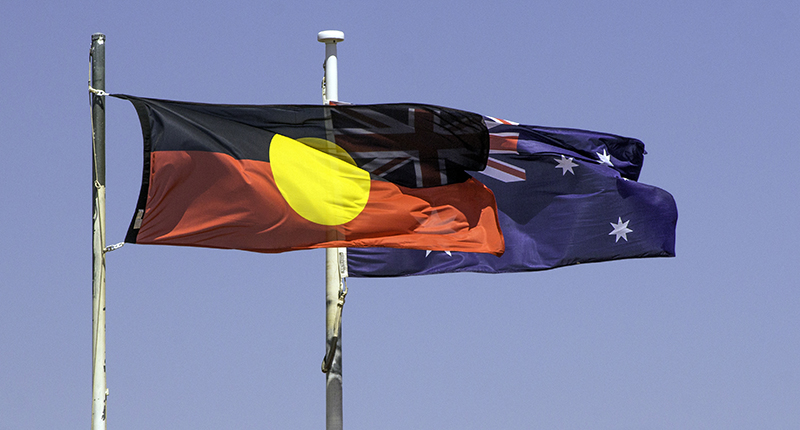aboriginal_flag: (102, 88, 518, 266)
